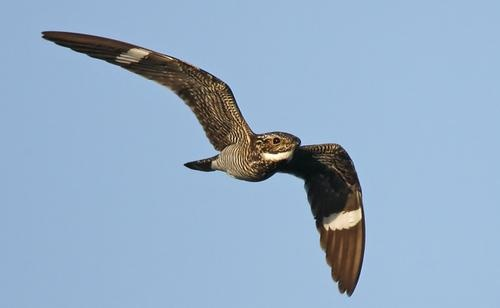bird: (35, 21, 364, 292)
